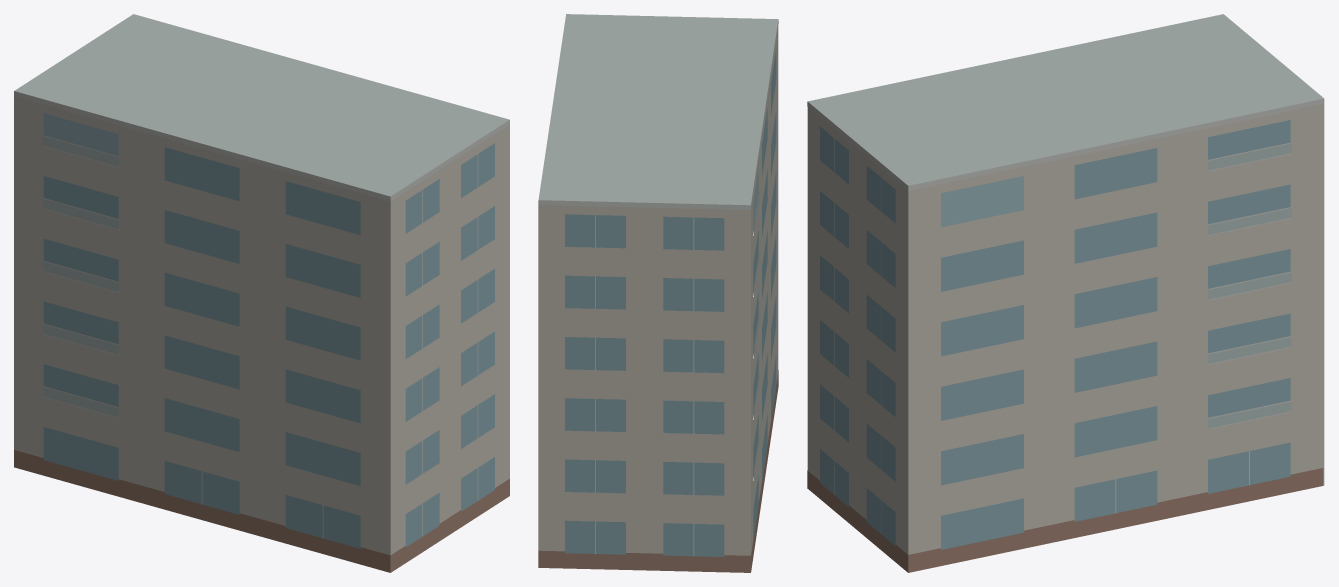
The model's file is survey-upis-32983564.glb.
The picture shows the model from 3 angles, left to right: view 1: azimuth 30°, elevation 25°; view 2: azimuth 150°, elevation 25°; view 3: azimuth 270°, elevation 25°; orthographic projection. The views are drawn at different scales.
Visible parts, largest first — view 1: survey-upis-32983564.tmp; view 2: survey-upis-32983564.tmp; view 3: survey-upis-32983564.tmp.
Boxes of the visible parts, <box> form: survey-upis-32983564.tmp: <box>14,14,509,572</box>; survey-upis-32983564.tmp: <box>538,14,778,572</box>; survey-upis-32983564.tmp: <box>807,14,1324,572</box>.
Size of the model in its own units: 17.43 by 18.3 by 22.16.
